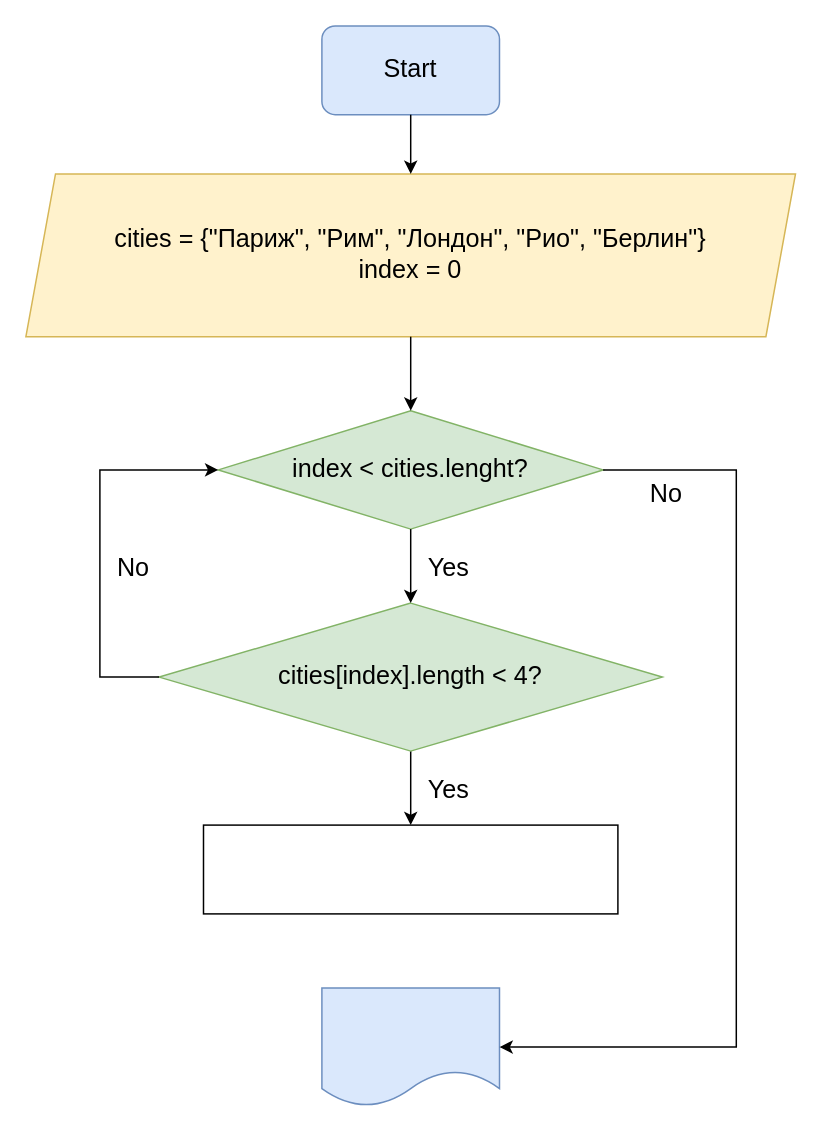
Some shapes in this 821 by 1132 pixel diagram are drawn without their labels. Each missing label, with the box of its shape:
end: (320, 986, 500, 1106)
print(cities[index]): (202, 824, 618, 914)
